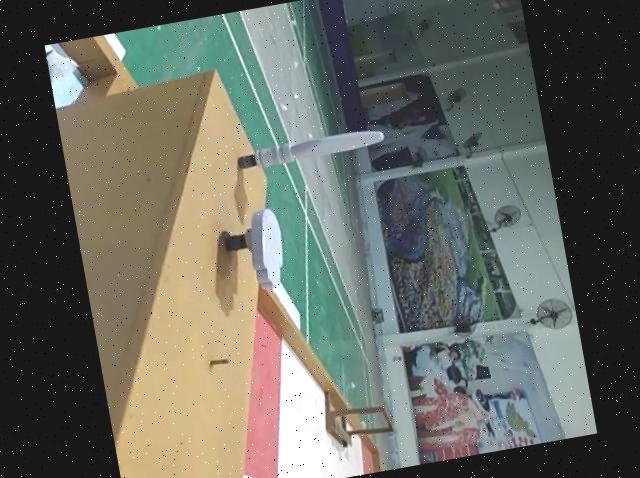Hand: (215, 207, 290, 296)
Sph: (229, 126, 385, 181)
